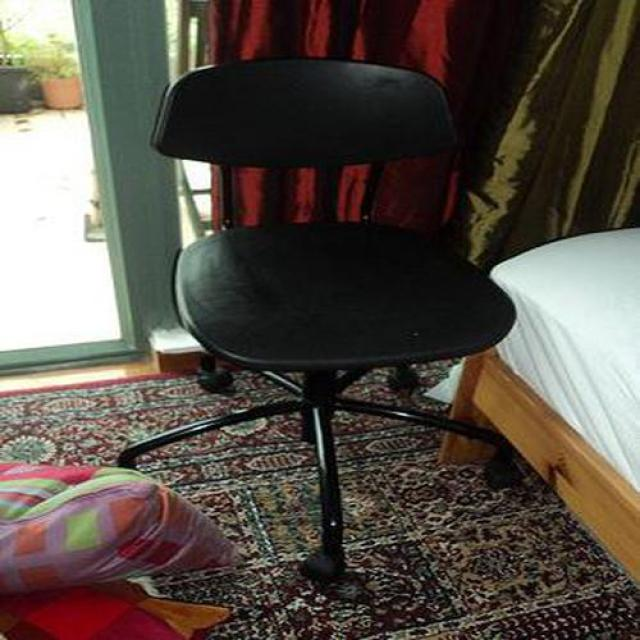swivelchair: (115, 59, 524, 585)
